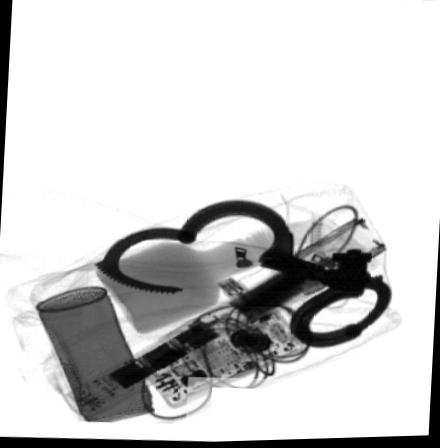Baton: (62, 219, 386, 419)
HandCuffs: (92, 199, 391, 351)
